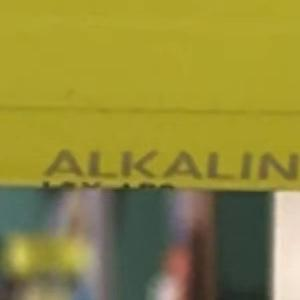ALK: (36, 143, 159, 186)
